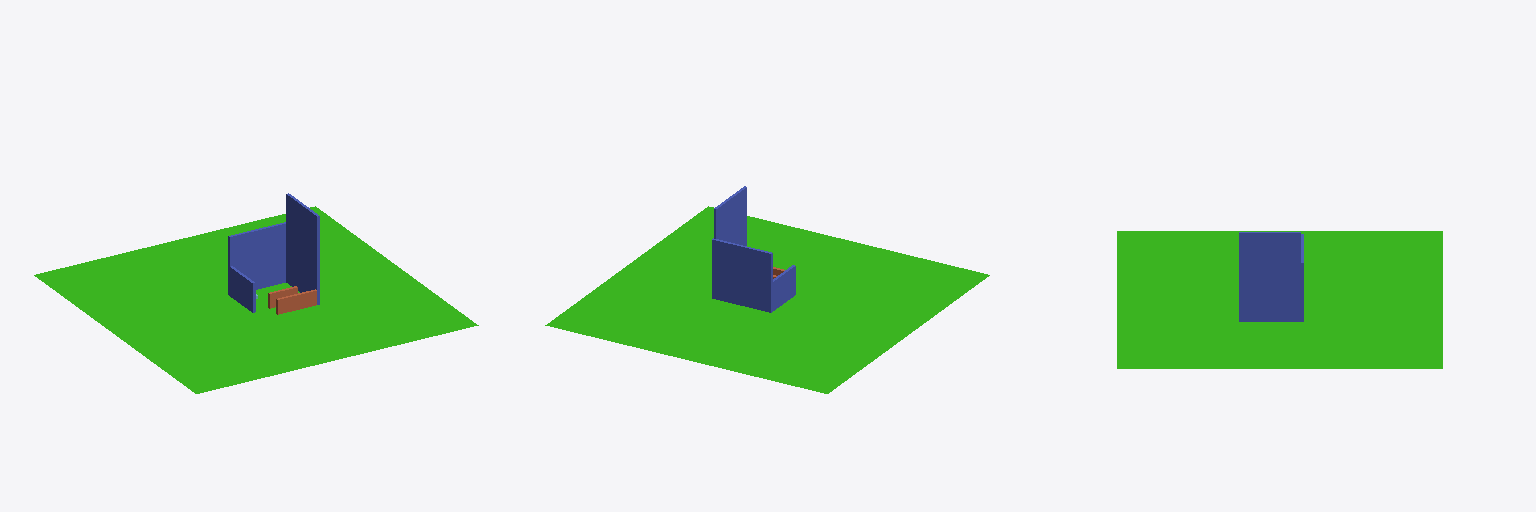
File: testField5.obj
3 views of the same model, side by side, from view 1: azimuth 30°, elevation 25°; view 2: azimuth 150°, elevation 25°; view 3: azimuth 270°, elevation 25° (orthographic).
Parts seen in each view (by area): view 1: Plane, Cube.004, Cube.007, Cube.001, Cube.002; view 2: Plane, Cube.004, Cube.007, Cube.001; view 3: Plane, Cube.007.
Boxes of the visible parts, <box> form: Plane: <box>34,206,478,393</box>; Cube.004: <box>228,222,285,295</box>; Cube.007: <box>286,193,319,304</box>; Cube.001: <box>230,266,255,312</box>; Cube.002: <box>276,289,316,314</box>; Plane: <box>545,206,989,393</box>; Cube.004: <box>712,238,772,312</box>; Cube.007: <box>714,186,746,245</box>; Cube.001: <box>773,265,795,310</box>; Plane: <box>1117,231,1442,368</box>; Cube.007: <box>1239,232,1300,321</box>.
Bounding box in the file's own units: 200 × 60 × 200.